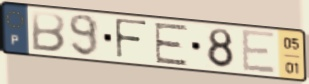8: (204, 27, 237, 71)
9: (67, 13, 102, 60)
B: (29, 9, 68, 54)
E: (239, 27, 278, 75), (152, 22, 190, 68)
F: (113, 17, 150, 62)
